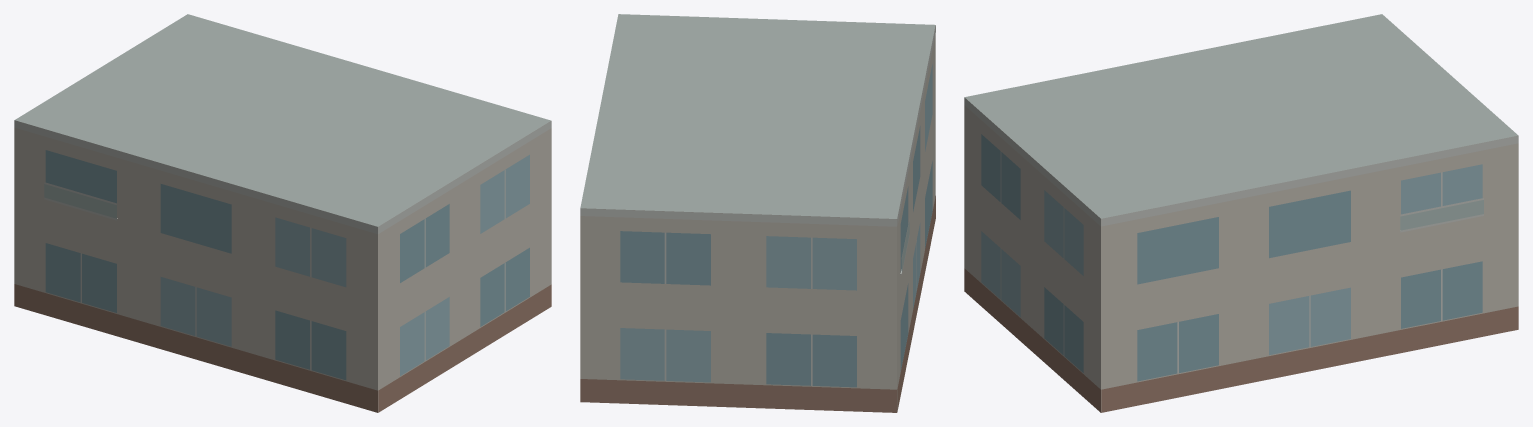
The model's file is survey-upis-32704782.glb.
3 renders of one model, left to right at view 1: azimuth 30°, elevation 25°; view 2: azimuth 150°, elevation 25°; view 3: azimuth 270°, elevation 25°, orthographic. The views are drawn at different scales.
Parts seen in each view (by area): view 1: survey-upis-32704782.tmp; view 2: survey-upis-32704782.tmp; view 3: survey-upis-32704782.tmp.
Part boxes in pixels (<box>): survey-upis-32704782.tmp: <box>14,14,551,412</box>; survey-upis-32704782.tmp: <box>580,14,935,412</box>; survey-upis-32704782.tmp: <box>964,14,1518,412</box>.
Size of the model in its own units: 13.82 by 6.1 by 15.8.
